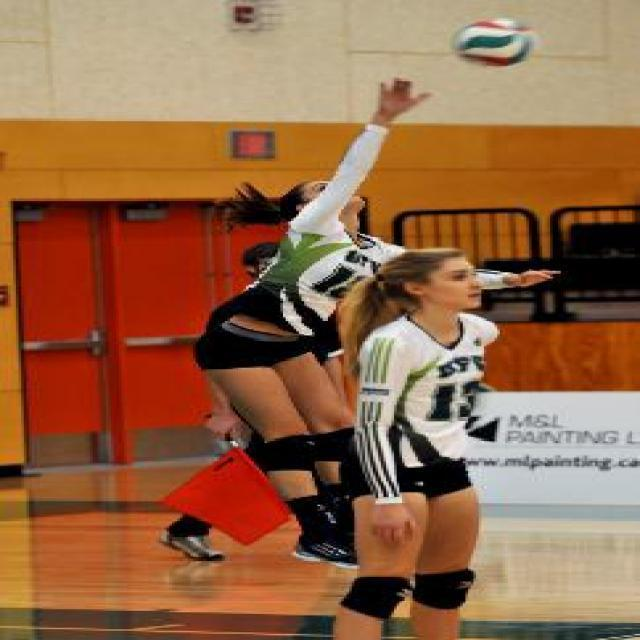volleyball: (452, 17, 536, 68)
